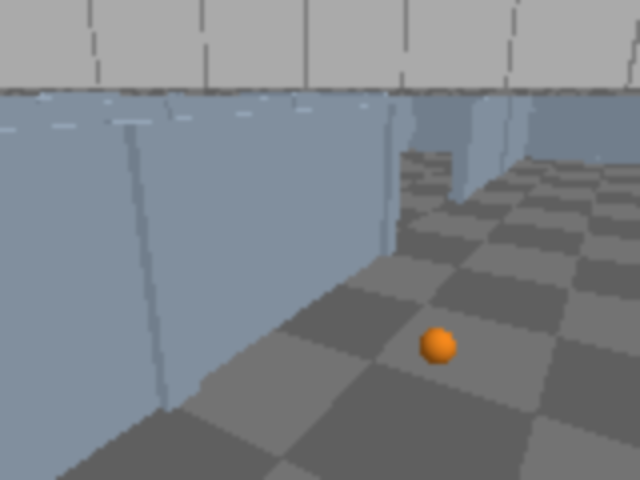puck: (414, 321, 464, 373)
